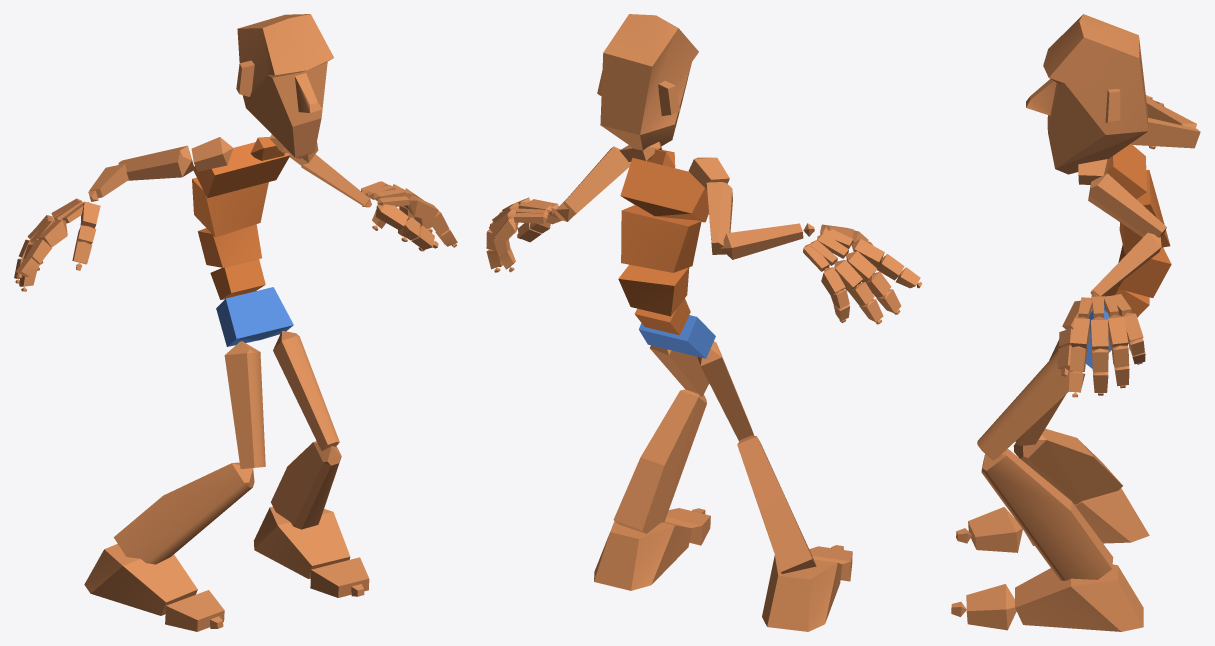
Rendered from personaje316.obj.
The picture shows the model from 3 angles, left to right: view 1: azimuth 30°, elevation 25°; view 2: azimuth 150°, elevation 25°; view 3: azimuth 270°, elevation 25°; orthographic projection. The views are drawn at different scales.
Visible parts, largest first — view 1: BOPED_Head, BOPED_R_leg, BOPED_R_foot, BOPED_R_foot01, BOPED_R_legup, BOPED_L_leg, BOPED_L_legup, Bone01, Bone04, Bone05, Bone03, BOPED_R_arm_upper (+6 smaller); view 2: BOPED_Head, BOPED_L_leg, BOPED_R_foot01, BOPED_R_foot, BOPED_R_leg, Bone04, Bone05, Bone03, BOPED_R_legup, Bone01, BOPED_R_arm_fore, BOPED_L_arm_upper (+6 smaller); view 3: BOPED_Head, BOPED_L_leg, BOPED_R_foot01, BOPED_R_leg, BOPED_L_legup, BOPED_R_foot, BOPED_L_arm_upper, BOPED_R_foot_toe01, BOPED_R_foot_toe04, Bone05, BOPED_L_arm_fore, Bone03 (+13 smaller).
Part boxes in pixels (left/top/right/bottom): BOPED_Head: left=236, top=14, right=333, bottom=158; BOPED_R_leg: left=113, top=462, right=254, bottom=564; BOPED_R_foot: left=84, top=544, right=197, bottom=615; BOPED_R_foot01: left=254, top=506, right=350, bottom=578; BOPED_R_legup: left=224, top=341, right=265, bottom=468; BOPED_L_leg: left=271, top=441, right=341, bottom=529; BOPED_L_legup: left=273, top=331, right=339, bottom=450; Bone01: left=216, top=287, right=293, bottom=346; Bone04: left=192, top=177, right=268, bottom=237; Bone05: left=193, top=142, right=290, bottom=197; Bone03: left=197, top=224, right=261, bottom=267; BOPED_R_arm_upper: left=118, top=145, right=194, bottom=180; BOPED_Head: left=597, top=14, right=698, bottom=150; BOPED_L_leg: left=613, top=389, right=706, bottom=533; BOPED_R_foot01: left=594, top=521, right=692, bottom=590; BOPED_R_foot: left=762, top=555, right=842, bottom=631; BOPED_R_leg: left=737, top=435, right=816, bottom=573; Bone04: left=621, top=205, right=701, bottom=272; Bone05: left=620, top=157, right=708, bottom=222; Bone03: left=618, top=264, right=689, bottom=316; BOPED_R_legup: left=697, top=341, right=753, bottom=441; Bone01: left=639, top=315, right=715, bottom=358; BOPED_R_arm_fore: left=720, top=223, right=803, bottom=259; BOPED_L_arm_upper: left=563, top=146, right=630, bottom=215; BOPED_Head: left=1026, top=14, right=1148, bottom=174; BOPED_L_leg: left=981, top=448, right=1113, bottom=580; BOPED_R_foot01: left=1015, top=564, right=1143, bottom=631; BOPED_R_leg: left=1013, top=428, right=1122, bottom=504; BOPED_L_legup: left=977, top=351, right=1082, bottom=460; BOPED_R_foot: left=1025, top=488, right=1149, bottom=545; BOPED_L_arm_upper: left=1088, top=173, right=1166, bottom=237; BOPED_R_foot_toe01: left=968, top=507, right=1022, bottom=552; BOPED_R_foot_toe04: left=966, top=584, right=1016, bottom=630; Bone05: left=1107, top=143, right=1146, bottom=199; BOPED_L_arm_fore: left=1090, top=233, right=1161, bottom=296; Bone03: left=1117, top=245, right=1171, bottom=297.
Size of the model in its own units: 139 by 167 by 63.92.
